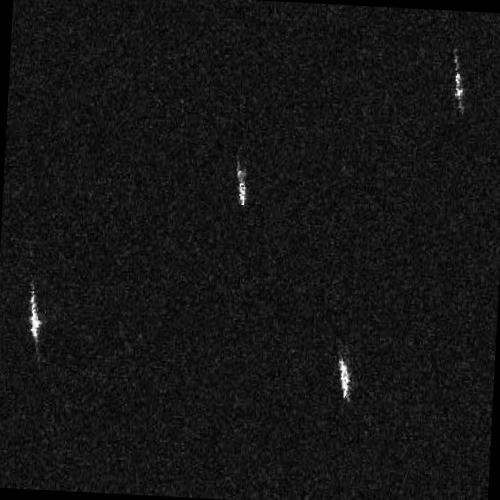ship: (27, 284, 41, 344), (336, 355, 351, 400), (452, 55, 465, 106), (235, 163, 247, 207)
